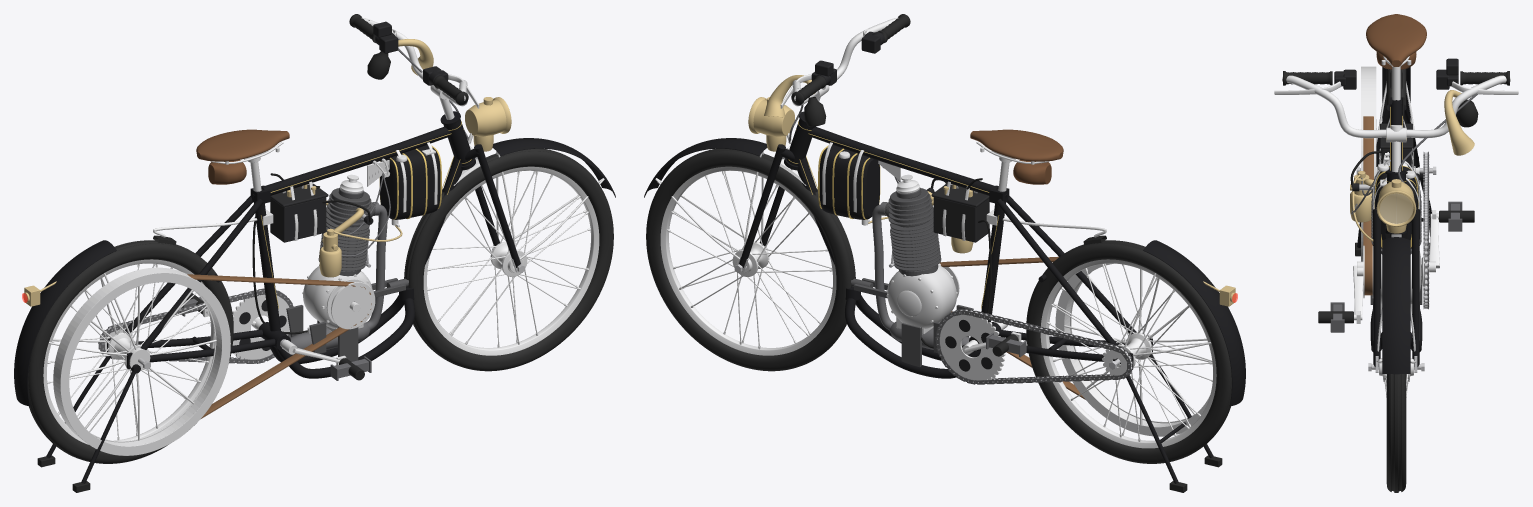
The model's file is bike_pioneer.glb.
3 renders of one model, left to right at view 1: azimuth 30°, elevation 25°; view 2: azimuth 150°, elevation 25°; view 3: azimuth 270°, elevation 25°, orthographic. The views are drawn at different scales.
Parts seen in each view (by area): view 1: frame_body__frame__tubes, wheels__front_wheel__tyre, transmission__belt_rim, wheels__rear_wheel__tyre, wheels__front_wheel__rim, wheels__front_wheel__spokes, frame_body__rear_mudguard, frame_body__fuel_tank, electrical__coil_box, wheels__rear_wheel__spokes, wheels__rear_wheel__rim, frame_body__saddle (+20 smaller); view 2: wheels__front_wheel__tyre, frame_body__frame__tubes, wheels__rear_wheel__tyre, wheels__front_wheel__rim, wheels__rear_wheel__rim, frame_body__fuel_tank, transmission__belt_rim, frame_body__rear_mudguard, wheels__front_wheel__spokes, wheels__rear_wheel__spokes, powertrain__engine__crankcase, transmission__chainring (+24 smaller); view 3: frame_body__front_mudguard, wheels__front_wheel__tyre, frame_body__saddle, chassis__handlebar__bar, electrical__carbide_lamp, frame_body__frame__tubes, transmission__belt, transmission__belt_rim, chassis__front_fork__left_blade, chassis__front_fork__right_blade, transmission__pedal_cranks, chassis__handlebar__grips (+18 smaller).
Boxes of the visible parts, x1,y1,x2,y2 form: frame_body__frame__tubes: (107,127,462,378); wheels__front_wheel__tyre: (404,148,613,371); transmission__belt_rim: (53,267,230,455); wheels__rear_wheel__tyre: (28,240,233,463); wheels__front_wheel__rim: (423,166,599,355); wheels__front_wheel__spokes: (428,173,587,344); frame_body__rear_mudguard: (14,240,116,406); frame_body__fuel_tank: (380,144,440,219); electrical__coil_box: (270,183,328,242); wheels__rear_wheel__spokes: (48,265,207,437); wheels__rear_wheel__rim: (43,259,214,444); frame_body__saddle: (196,129,289,161); wheels__front_wheel__tyre: (646,148,855,371); frame_body__frame__tubes: (797,127,1152,378); wheels__rear_wheel__tyre: (1026,240,1231,463); wheels__front_wheel__rim: (660,166,836,355); wheels__rear_wheel__rim: (1040,259,1216,448); frame_body__fuel_tank: (819,144,879,219); transmission__belt_rim: (1055,263,1210,436); frame_body__rear_mudguard: (1143,240,1245,406); wheels__front_wheel__spokes: (670,173,831,345); wheels__rear_wheel__spokes: (1049,266,1211,438); powertrain__engine__crankcase: (887,264,956,334); transmission__chainring: (939,310,1005,380); frame_body__front_mudguard: (1382,237,1410,374); wheels__front_wheel__tyre: (1386,374,1406,492); frame_body__saddle: (1366,14,1426,66); chassis__handlebar__bar: (1282,75,1510,138); electrical__carbide_lamp: (1376,179,1416,226); frame_body__frame__tubes: (1370,97,1422,351); transmission__belt: (1363,116,1373,295); transmission__belt_rim: (1361,66,1376,261); chassis__front_fork__left_blade: (1372,209,1381,367); chassis__front_fork__right_blade: (1411,209,1420,367); transmission__pedal_cranks: (1353,210,1439,323); chassis__handlebar__grips: (1283,71,1509,85).
Size of the model in its own units: 188 by 105 by 63.18.
